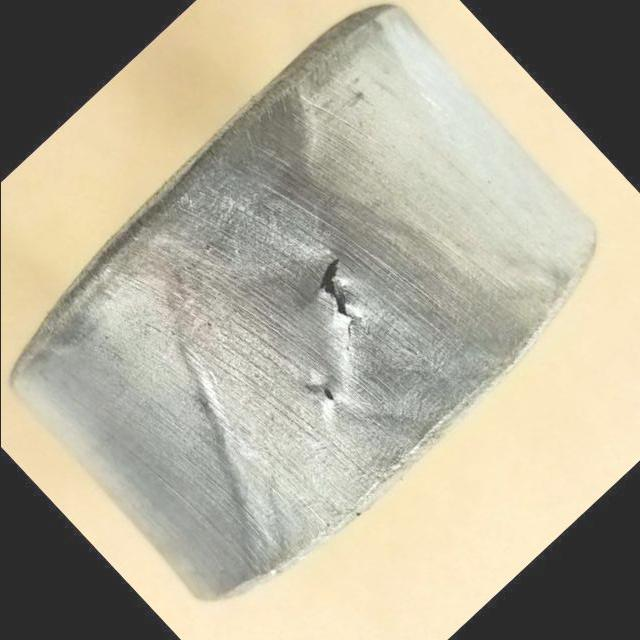defect: (311, 248, 356, 355)
